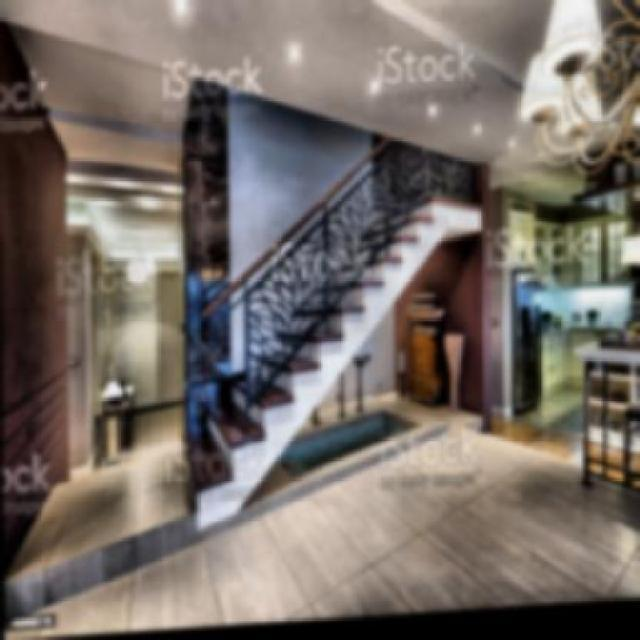stair: (194, 169, 483, 429)
